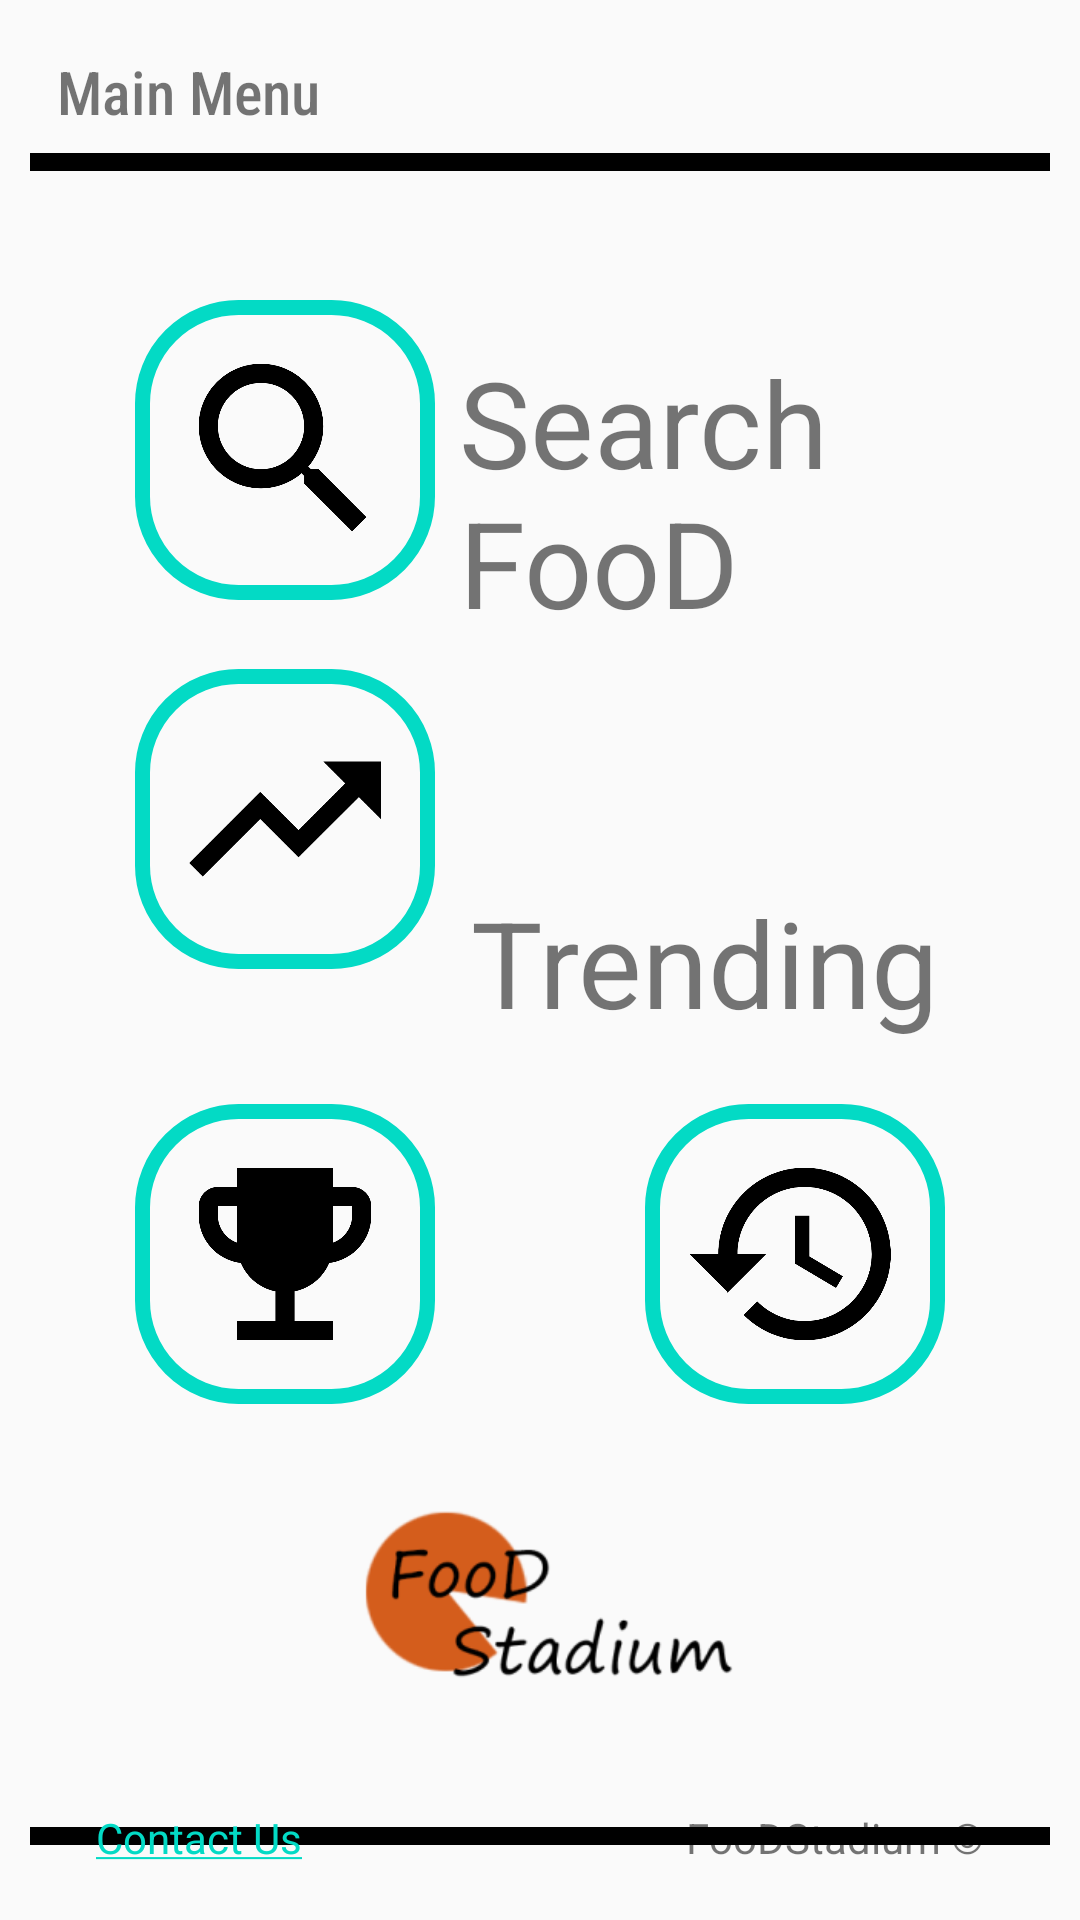

Point at icon controls on the screen. Image size 1080w x 1920h, points as (x=x, y=y).
history: (x=795, y=1254)
trophy: (x=285, y=1254)
